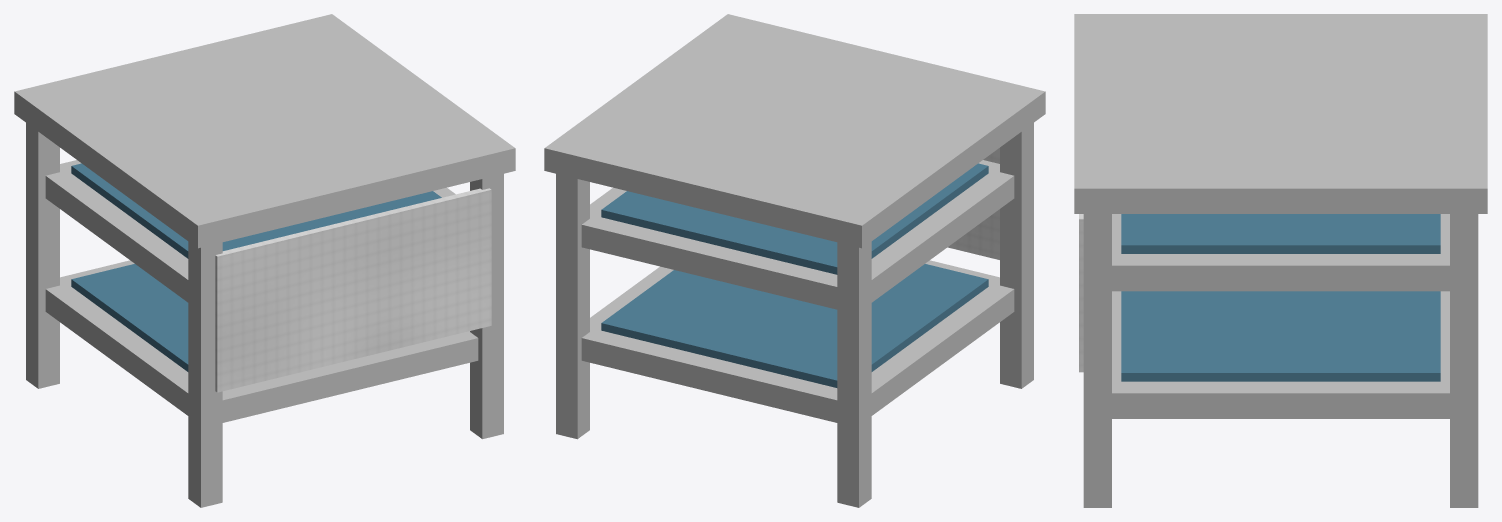
The model's file is passive_cooler.obj.
3 views of the same model, side by side, from view 1: azimuth 30°, elevation 25°; view 2: azimuth 150°, elevation 25°; view 3: azimuth 270°, elevation 25° (orthographic). The views are drawn at different scales.
Parts seen in each view (by area): view 1: passive_cooler; view 2: passive_cooler; view 3: passive_cooler.
Part boxes in pixels (x1=…): passive_cooler: x1=14, y1=14, x2=515, y2=507; passive_cooler: x1=544, y1=14, x2=1045, y2=507; passive_cooler: x1=1074, y1=14, x2=1487, y2=507.
Size of the model in its own units: 0.88 by 0.76 by 0.88.
